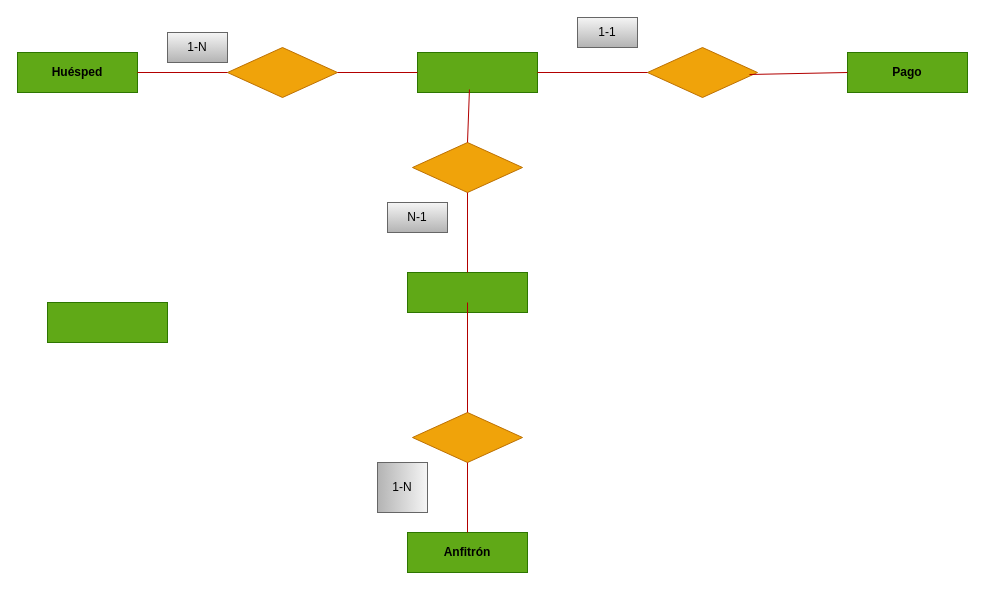
This 985x590 diagram has some shape labels left out. Each missing label, with the box of its shape:
Alojamiento: (406, 272, 528, 312)
Reserva: (416, 52, 538, 92)
Servicio: (46, 302, 168, 342)
